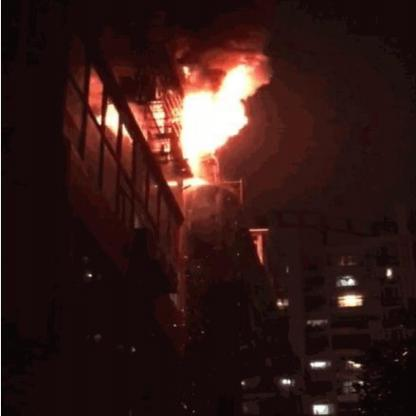fire: (165, 62, 254, 200)
